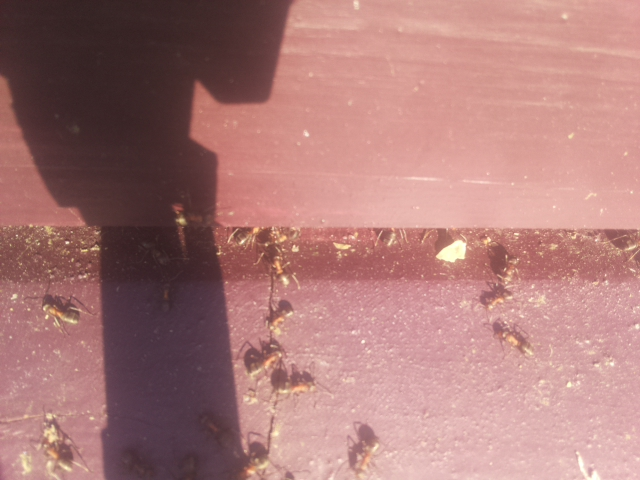ant: (344, 423, 387, 480), (484, 315, 536, 361), (34, 287, 86, 331), (232, 432, 275, 480), (133, 232, 177, 274), (40, 433, 79, 480), (193, 411, 236, 453), (115, 445, 160, 480), (263, 240, 292, 291), (263, 298, 297, 335), (268, 378, 319, 398), (170, 451, 203, 480), (571, 449, 604, 478)
